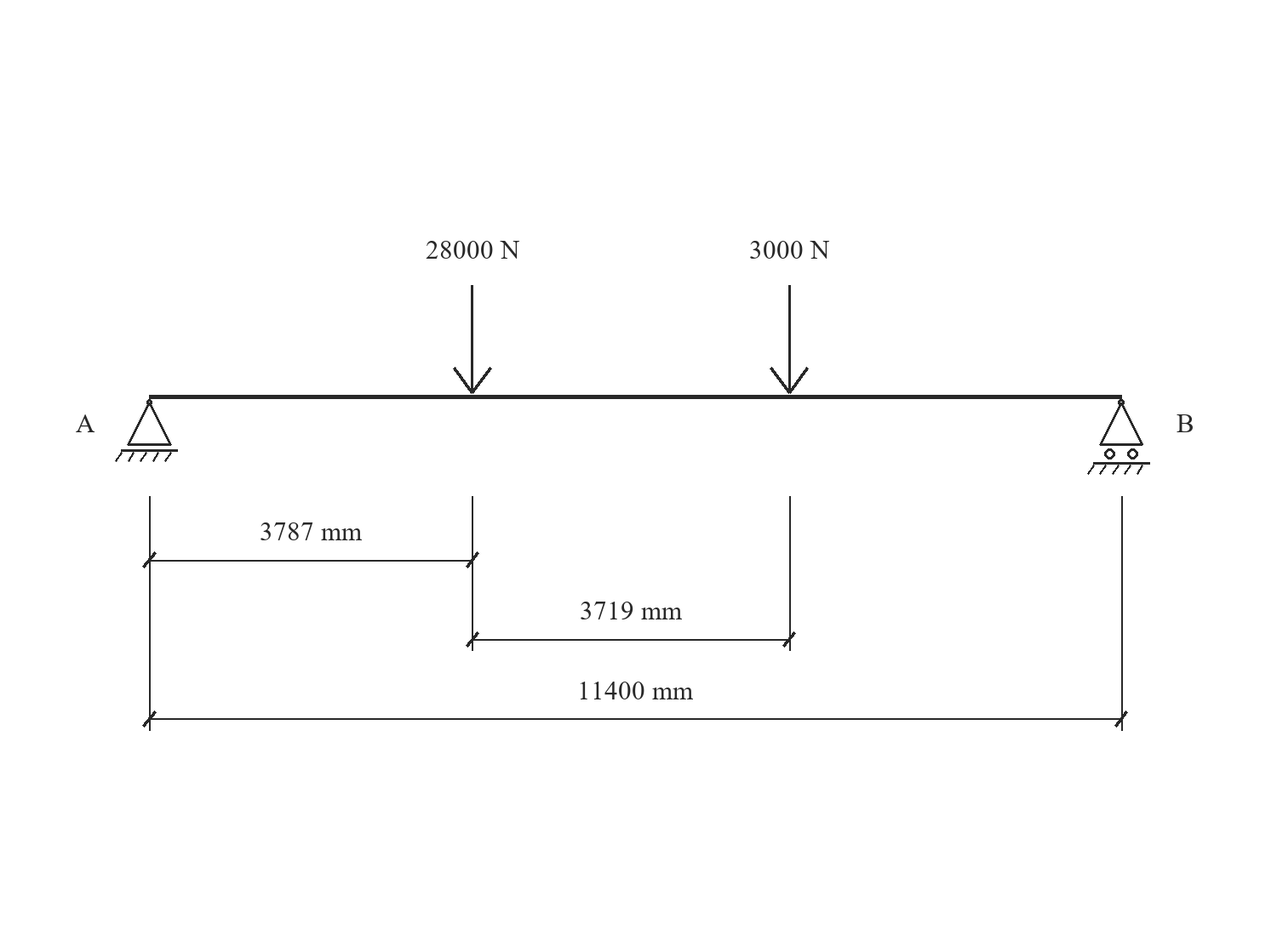pin_support: (115, 399, 178, 462)
point_load: (453, 285, 492, 394), (770, 285, 809, 394)
roller_support: (1087, 399, 1150, 475)
